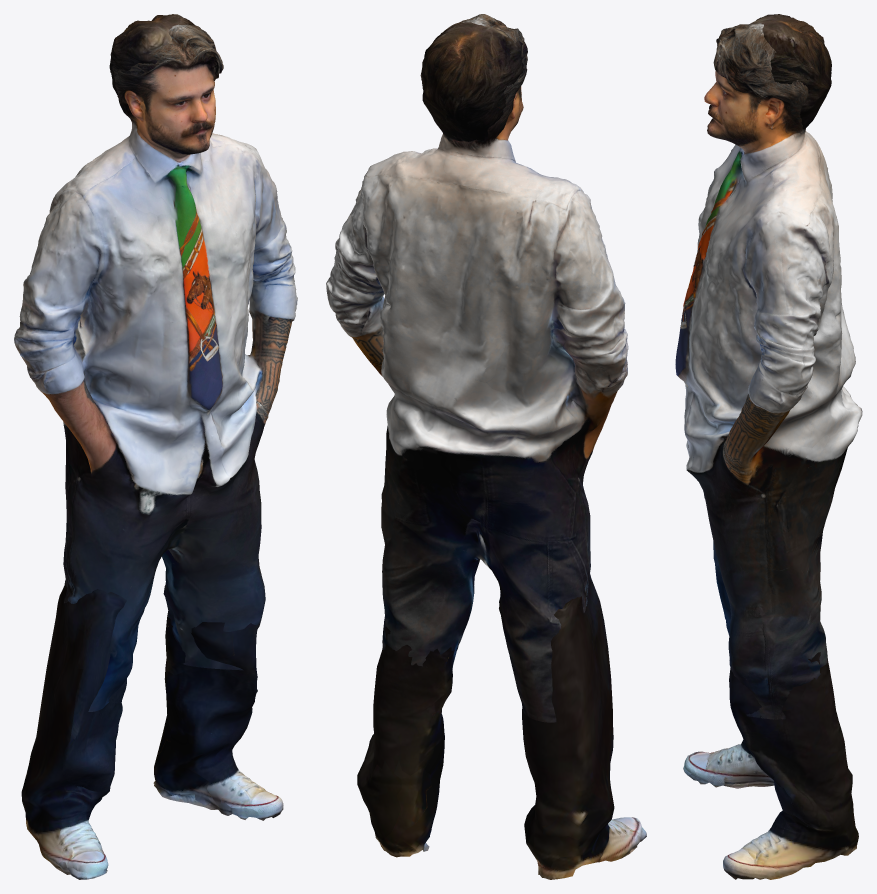
Rendered from Eugenio.glb.
3 renders of one model, left to right at view 1: azimuth 30°, elevation 25°; view 2: azimuth 150°, elevation 25°; view 3: azimuth 270°, elevation 25°, orthographic.
Parts seen in each view (by area): view 1: Eugenio; view 2: Eugenio; view 3: Eugenio.
Part boxes in pixels (box(x1,y1,x2,y2)): Eugenio: box(14, 14, 297, 879); Eugenio: box(326, 14, 646, 879); Eugenio: box(675, 14, 862, 879).
Bounding box in the file's own units: 0.8344 × 2.27 × 0.4741.
2 materials, 2 textured.
